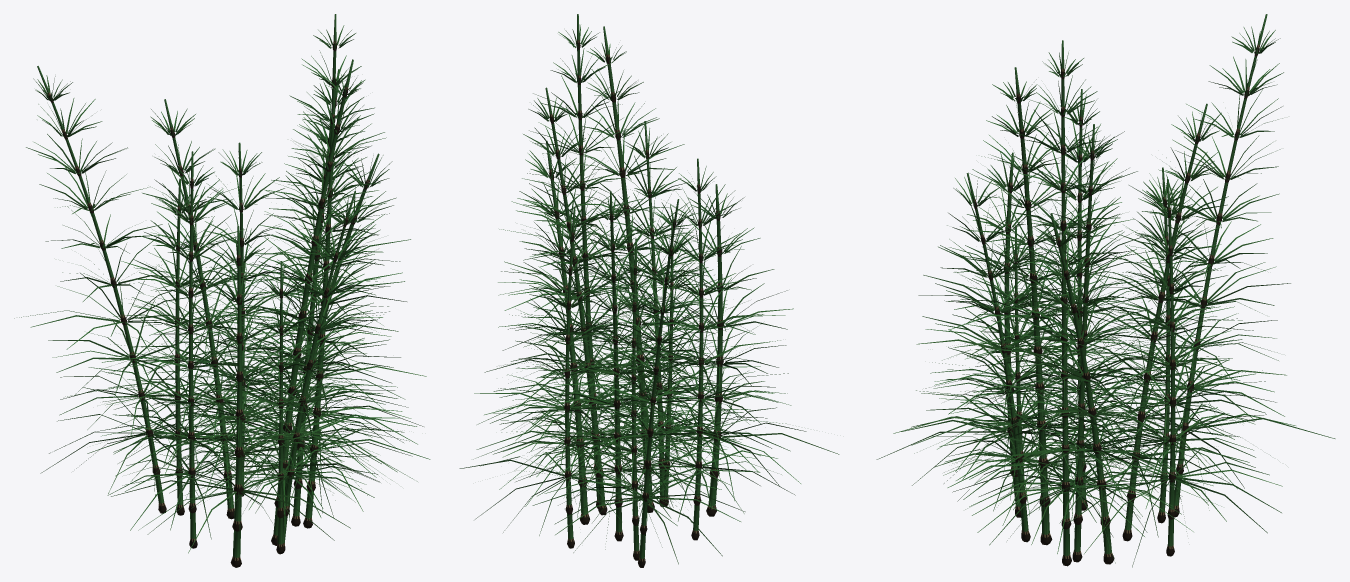
File: horsetail_v02.fbx
3 renders of one model, left to right at view 1: azimuth 30°, elevation 25°; view 2: azimuth 150°, elevation 25°; view 3: azimuth 270°, elevation 25°, orthographic. The views are drawn at different scales.
Parts seen in each view (by area): view 1: horsetail_v02; view 2: horsetail_v02; view 3: horsetail_v02.
Boxes of the visible parts, left/top/right/bottom form: horsetail_v02: left=14, top=14, right=430, bottom=567; horsetail_v02: left=459, top=14, right=839, bottom=567; horsetail_v02: left=876, top=14, right=1335, bottom=567.
Size of the model in its own units: 36.66 by 42.26 by 54.6.
Materials: 2 (2 with a texture image).
